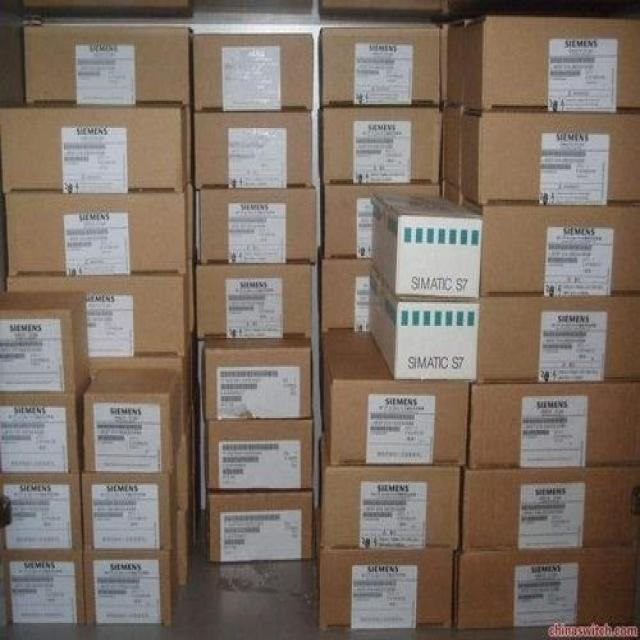box: (318, 331, 471, 464), (459, 194, 639, 295), (5, 183, 188, 276), (460, 112, 639, 206), (318, 435, 460, 550), (463, 19, 639, 111), (312, 513, 452, 628), (7, 270, 189, 358), (2, 107, 188, 192), (454, 548, 639, 629), (469, 382, 639, 470), (460, 468, 639, 549), (24, 22, 192, 108), (476, 297, 639, 381), (368, 263, 478, 380), (370, 194, 481, 300), (84, 368, 182, 473), (316, 28, 441, 108), (317, 107, 441, 186), (89, 347, 194, 439), (192, 34, 314, 110), (0, 290, 89, 394), (202, 338, 312, 422), (318, 183, 441, 258), (80, 458, 179, 551), (194, 109, 312, 187), (81, 534, 180, 626), (0, 376, 91, 476), (195, 263, 310, 341), (198, 187, 315, 263), (203, 418, 314, 493), (204, 486, 312, 562), (0, 472, 83, 551), (2, 552, 85, 624), (318, 252, 370, 334), (441, 107, 464, 191), (444, 25, 464, 108), (178, 411, 193, 509), (176, 509, 193, 584), (442, 181, 460, 204)
